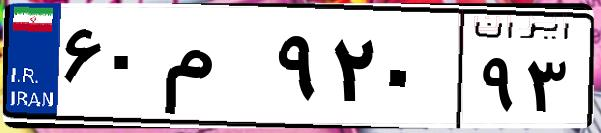0: (385, 28, 445, 110), (110, 28, 158, 98)
2: (330, 28, 385, 110)
3: (525, 38, 570, 115)
6: (57, 26, 110, 100)
9: (270, 28, 330, 110), (475, 38, 525, 113)
م: (158, 20, 270, 120)
